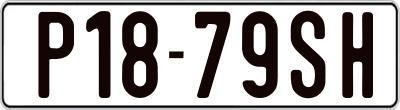1: (86, 9, 111, 99)
7: (195, 11, 235, 101)
8: (122, 9, 158, 98)
9: (240, 9, 277, 98)
H: (341, 11, 373, 102)
P: (38, 10, 75, 99)
S: (289, 9, 328, 100)
